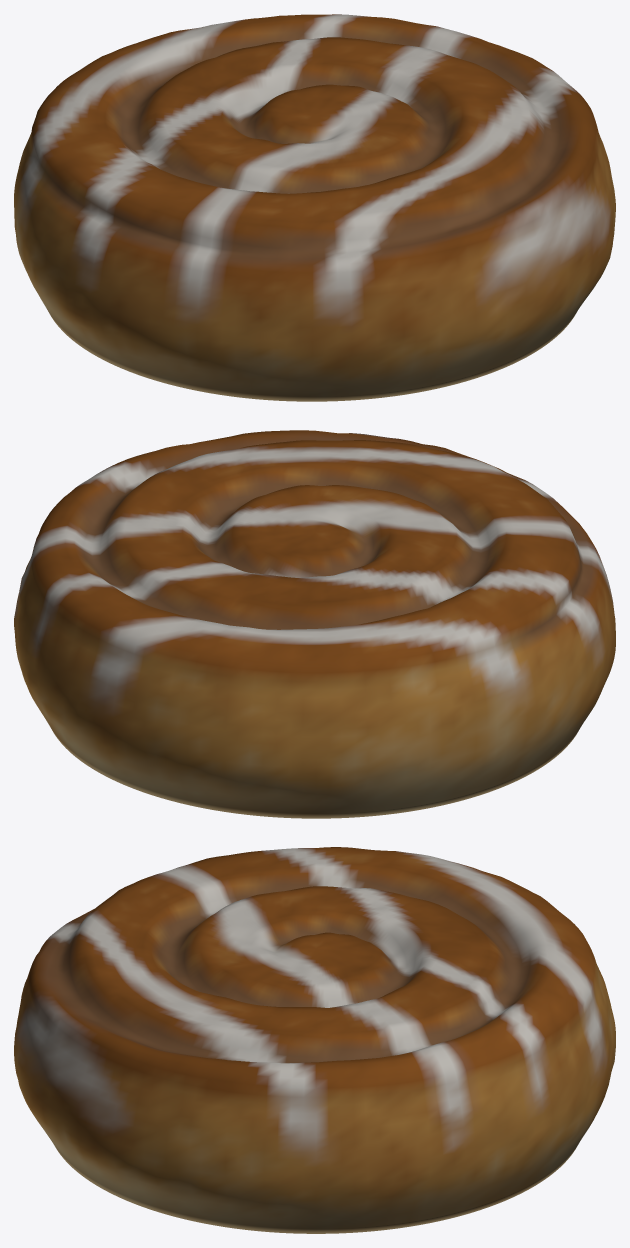
File: gefuellte-schnecken-schoko-pudding-rosinen-nuss-oder-mohn.glb
The picture shows the model from 3 angles, top to bottom: view 1: azimuth 30°, elevation 25°; view 2: azimuth 150°, elevation 25°; view 3: azimuth 270°, elevation 25°; orthographic projection.
Visible parts, largest first — view 1: gefuellte-schnecken-schoko-pudding-rosinen-nuss-oder-mohn; view 2: gefuellte-schnecken-schoko-pudding-rosinen-nuss-oder-mohn; view 3: gefuellte-schnecken-schoko-pudding-rosinen-nuss-oder-mohn.
Boxes of the visible parts, x1,y1,x2,y2 form: gefuellte-schnecken-schoko-pudding-rosinen-nuss-oder-mohn: [14, 14, 615, 401]; gefuellte-schnecken-schoko-pudding-rosinen-nuss-oder-mohn: [14, 430, 615, 818]; gefuellte-schnecken-schoko-pudding-rosinen-nuss-oder-mohn: [14, 847, 615, 1233].
Bounding box in the file's own units: 0.11 × 0.035 × 0.11.
